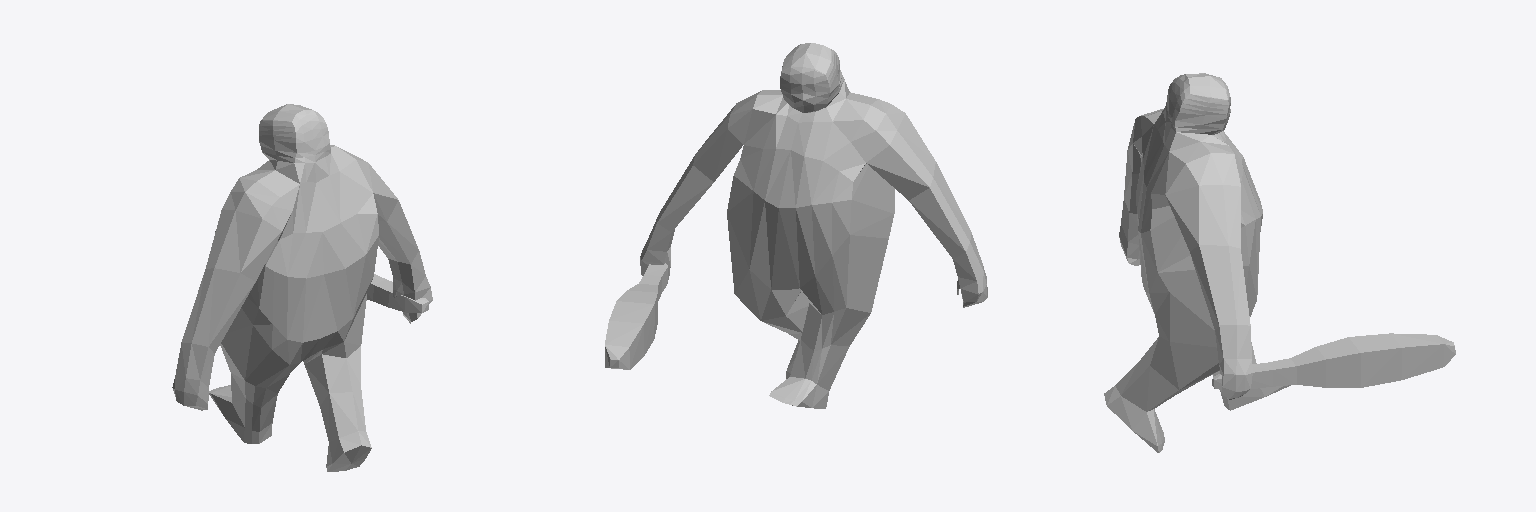
The model's file is Enemigo219.obj.
3 views of the same model, side by side, from view 1: azimuth 30°, elevation 25°; view 2: azimuth 150°, elevation 25°; view 3: azimuth 270°, elevation 25° (orthographic).
Parts seen in each view (by area): view 1: Cube; view 2: Cube; view 3: Cube.
Part boxes in pixels (x1,y1,x2,y2): Cube: (172,104,432,471); Cube: (605,43,987,408); Cube: (1104,73,1455,452).
Bounding box in the file's own units: 2.43 × 2.82 × 2.51.